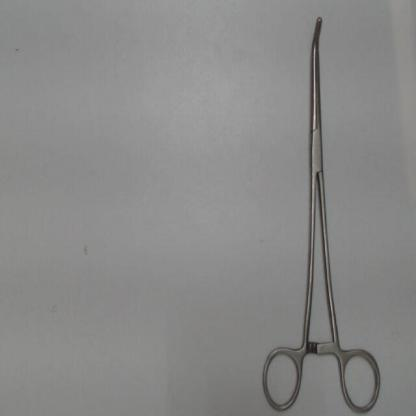Lahey Forceps: (258, 12, 384, 415)
